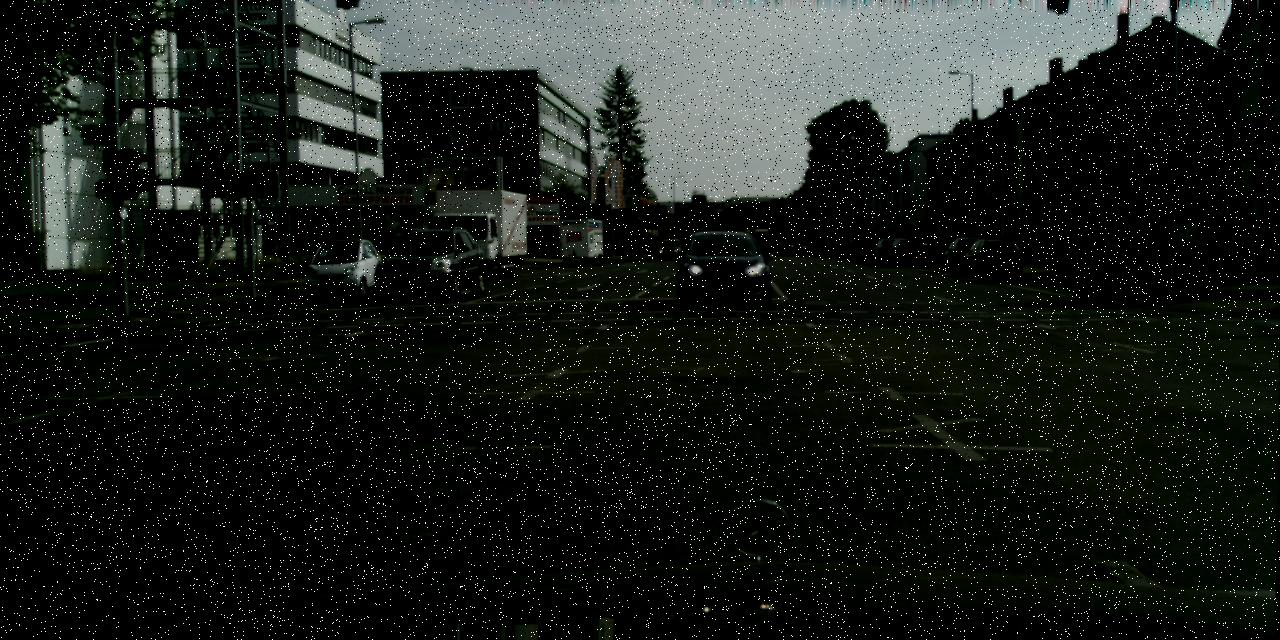ped: (848, 237, 854, 255)
